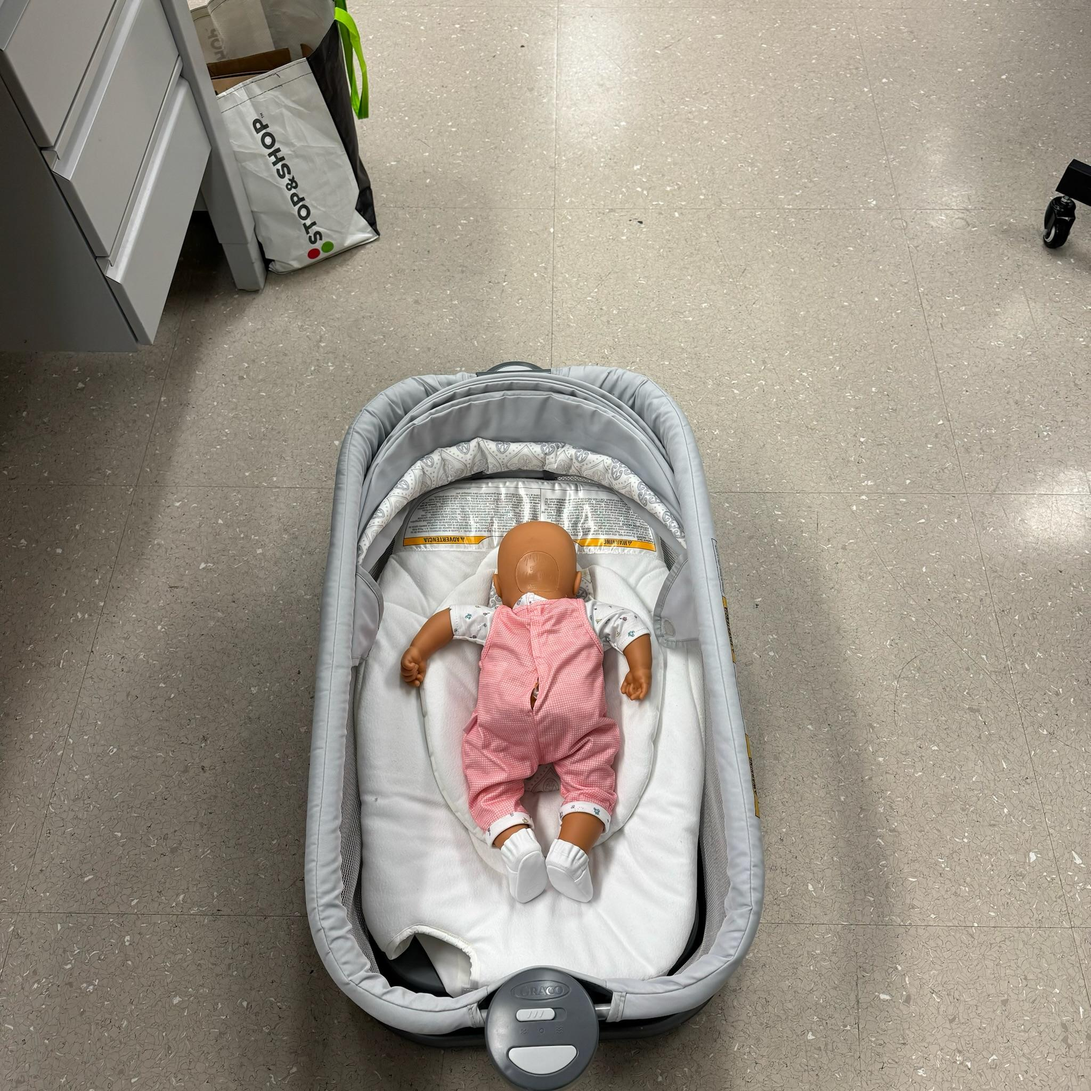baby: (397, 513, 677, 904)
